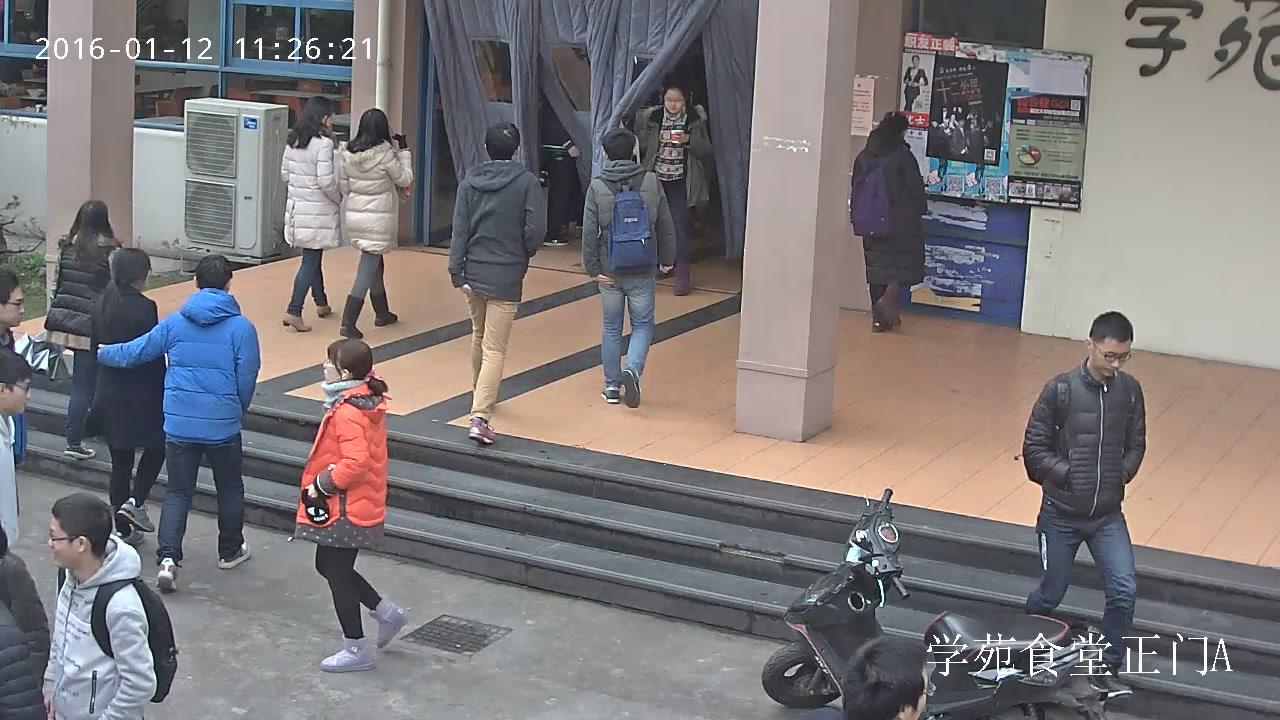person: (97, 254, 260, 591), (1022, 311, 1146, 701), (292, 338, 407, 672), (447, 121, 546, 444), (42, 491, 177, 720), (12, 200, 124, 458), (582, 127, 677, 408), (89, 247, 167, 547), (43, 200, 123, 459), (632, 81, 714, 296), (850, 111, 928, 332), (339, 108, 413, 338), (279, 96, 342, 331), (540, 91, 580, 247), (0, 352, 31, 553), (903, 55, 928, 111)
